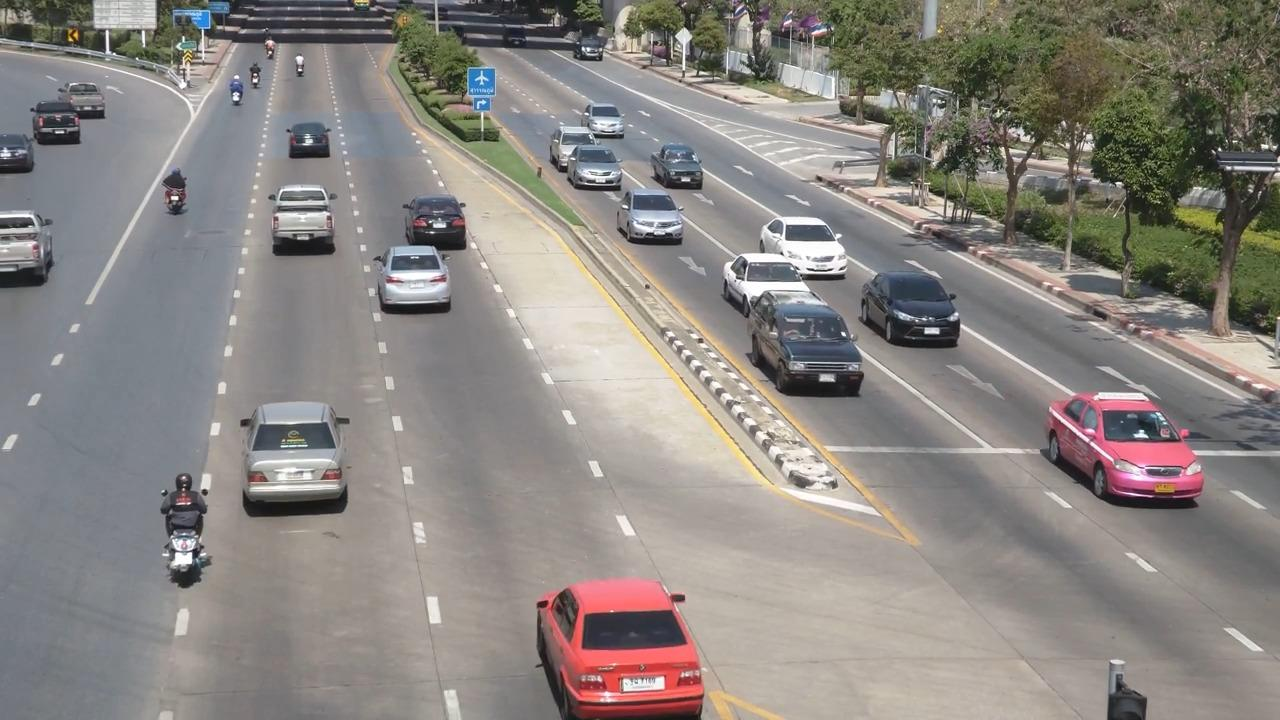CAR: (522, 562, 720, 720), (230, 391, 385, 545), (1044, 378, 1213, 512), (749, 293, 869, 402), (853, 266, 968, 352), (259, 178, 347, 264), (371, 233, 460, 316), (758, 206, 856, 280), (0, 192, 65, 290), (717, 251, 810, 313), (607, 183, 690, 246), (401, 184, 474, 254), (639, 137, 715, 198), (23, 95, 90, 153), (277, 115, 342, 165), (563, 145, 620, 196), (573, 94, 628, 142), (542, 125, 602, 167), (57, 75, 109, 121)
MOTOR: (133, 461, 233, 595), (142, 167, 195, 229), (254, 30, 283, 71), (220, 76, 249, 112), (239, 63, 268, 98), (290, 51, 308, 86)
